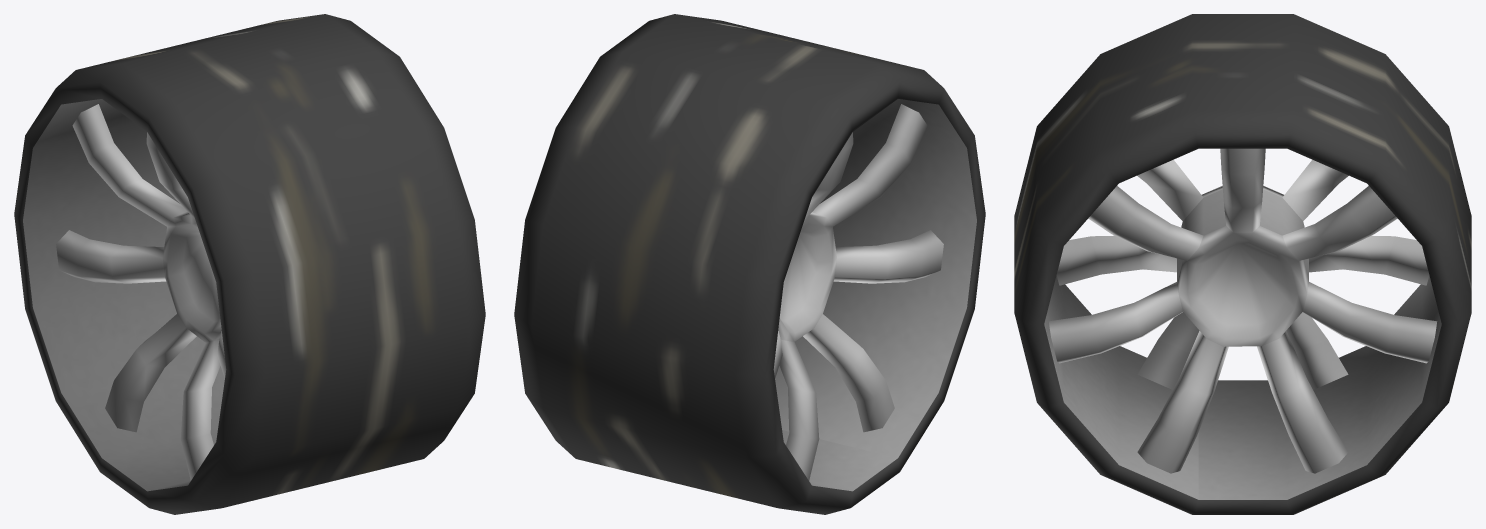
Rendered from Drift Wheel.fbx.
The picture shows the model from 3 angles, left to right: view 1: azimuth 30°, elevation 25°; view 2: azimuth 150°, elevation 25°; view 3: azimuth 270°, elevation 25°; orthographic projection. The views are drawn at different scales.
Visible parts, largest first — view 1: Drift tire; view 2: Drift tire; view 3: Drift tire.
Part boxes in pixels (x1,y1,x2,y2): Drift tire: (14,14,485,514); Drift tire: (514,14,985,514); Drift tire: (1014,14,1471,514).
Size of the model in its own units: 0.5447 by 0.8579 by 0.88.
